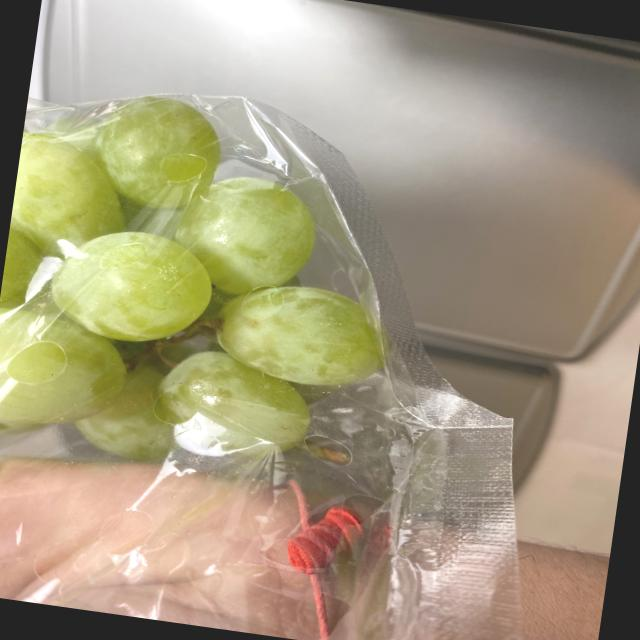grapes: (0, 62, 424, 494)
